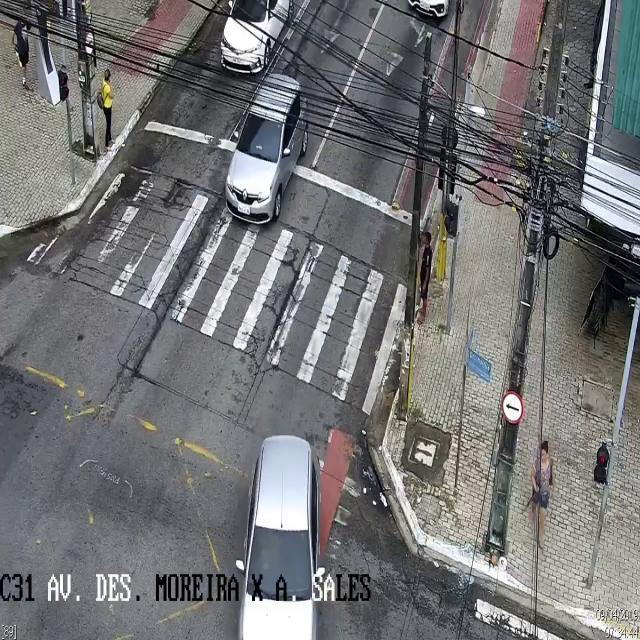Car: (238, 434, 320, 639), (223, 72, 309, 226), (220, 2, 294, 74)
